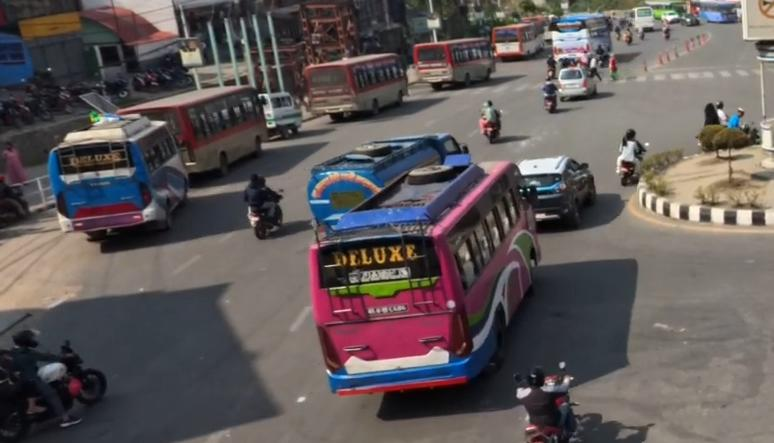bus: (302, 155, 548, 417), (41, 111, 195, 245)
